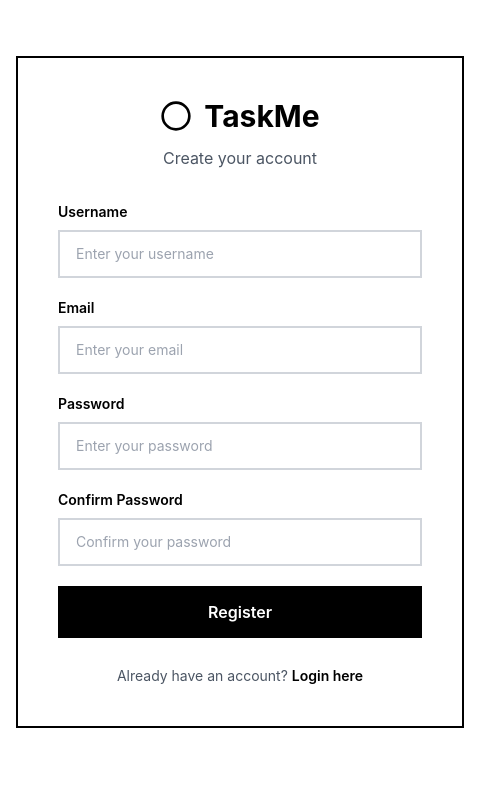
Test case: Register Component › shows validation error when username is too short
The width and height of the screenshot is (481, 785).
Type "ab" into the field labelled "Username" at (240, 254), box x1=58 y1=230 x2=422 y2=278
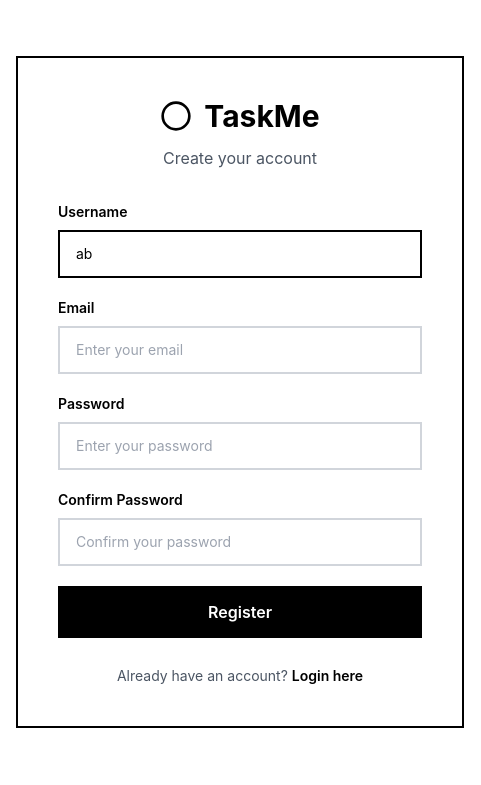
Click the button "Register" at (240, 612), box x1=58 y1=586 x2=422 y2=638
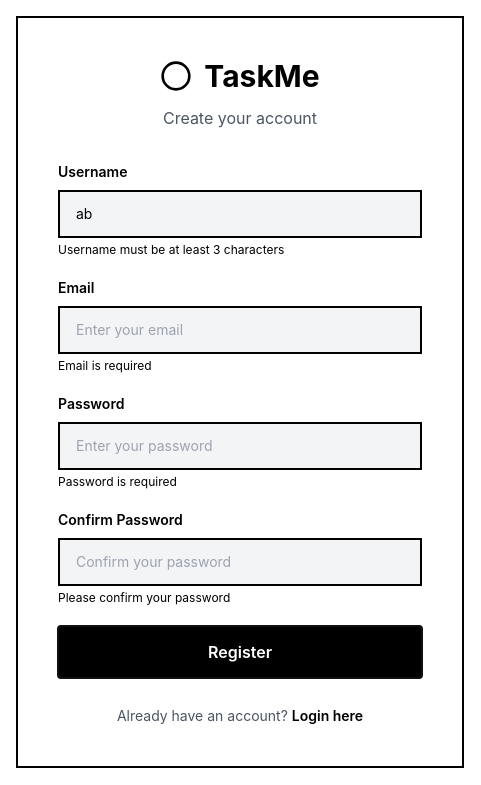
Expected: the text "Username must be at least 3 characters" is shown, x1=58 y1=242 x2=284 y2=257
